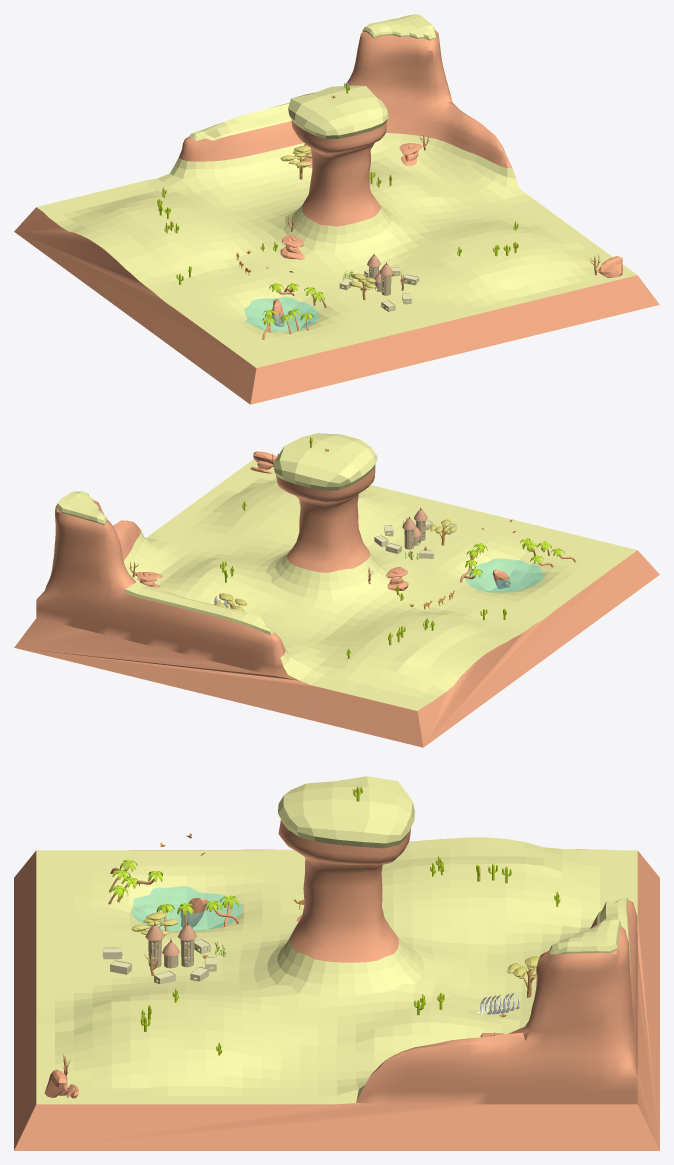
Rendered from low_poly_desert.glb.
3 renders of one model, top to bottom at view 1: azimuth 30°, elevation 25°; view 2: azimuth 150°, elevation 25°; view 3: azimuth 270°, elevation 25°, orthographic. The views are drawn at different scales.
Visible parts, largest first — view 1: Cube.003, Cube, Plane, Cylinder_114; view 2: Cube.003, Cube, Plane, Cylinder_114; view 3: Cube.003, Cube, Plane, Cylinder_114, Icosphere_013.002, Icosphere_025.001.
Part boxes in pixels (box(x1,y1,x2,y2)): Cube.003: box(36, 14, 637, 367); Cube: box(14, 30, 659, 404); Plane: box(244, 297, 319, 331); Cylinder_114: box(367, 253, 393, 295); Cube.003: box(56, 433, 637, 710); Cube: box(14, 465, 659, 747); Plane: box(465, 559, 546, 592); Cylinder_114: box(402, 507, 427, 549); Cube.003: box(36, 776, 637, 1104); Cube: box(14, 820, 659, 1150); Plane: box(131, 886, 241, 930); Cylinder_114: box(145, 922, 196, 968); Icosphere_013.002: box(44, 1069, 78, 1098); Icosphere_025.001: box(507, 956, 539, 997).
Bounding box in the file's own units: 2.21 × 0.9056 × 2.21.
